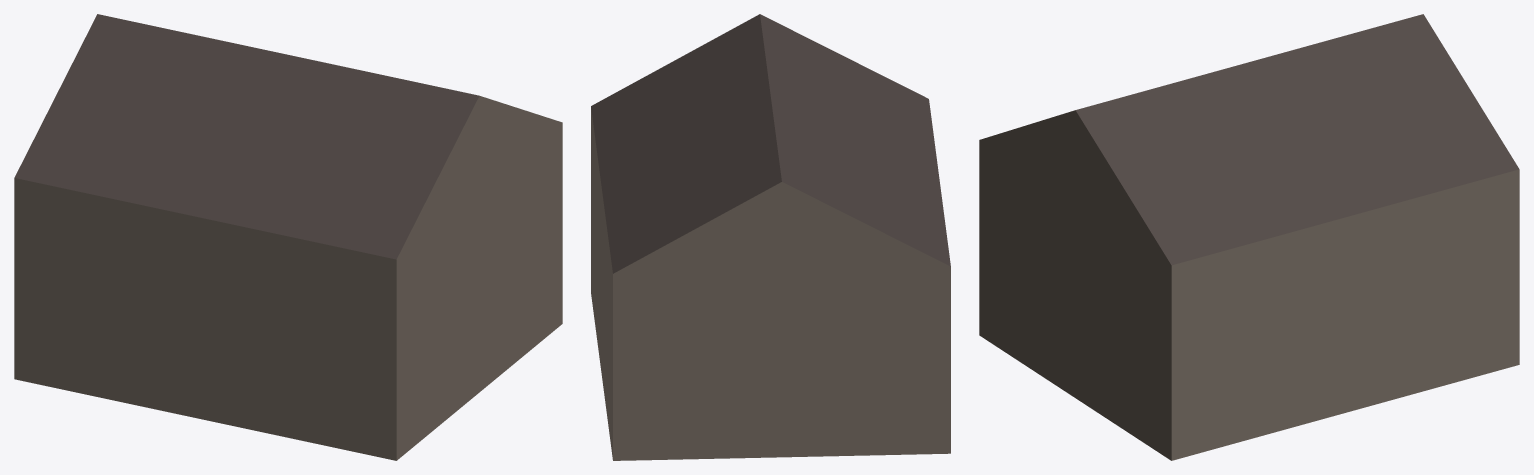
The picture shows the model from 3 angles, left to right: view 1: azimuth 30°, elevation 25°; view 2: azimuth 150°, elevation 25°; view 3: azimuth 270°, elevation 25°; orthographic projection. The views are drawn at different scales.
Visible parts, largest first — view 1: HP-w369237925; view 2: HP-w369237925; view 3: HP-w369237925.
Boxes of the visible parts, x1=… form: HP-w369237925: x1=14, y1=14, x2=562, y2=460; HP-w369237925: x1=591, y1=14, x2=950, y2=460; HP-w369237925: x1=979, y1=14, x2=1519, y2=460.
Size of the model in its own units: 14.59 by 8.84 by 15.02.
